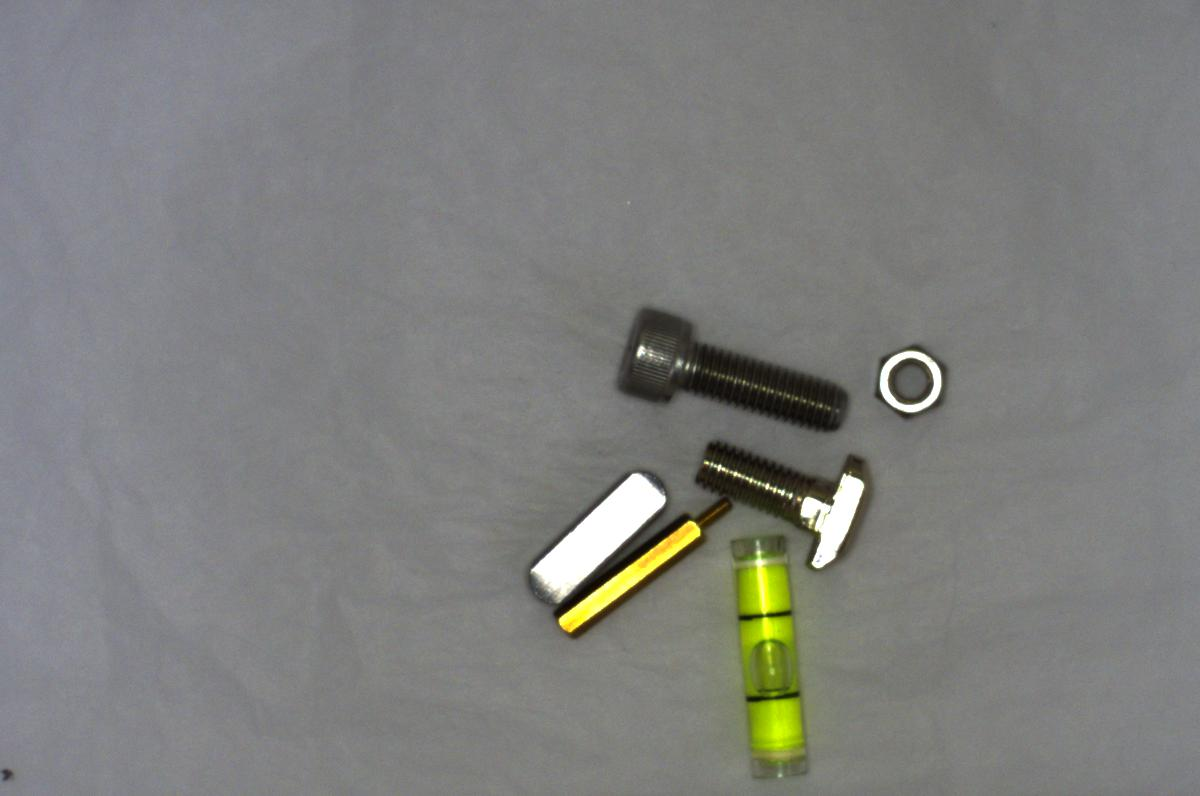Hexagon nut: (860, 342, 955, 427)
Hexagon pillar: (542, 490, 741, 645)
Hexagon screw: (594, 292, 856, 431)
Horizontal bubble: (719, 513, 828, 789)
Keybar: (512, 456, 670, 615)
T-shaped screw: (683, 427, 885, 585)
